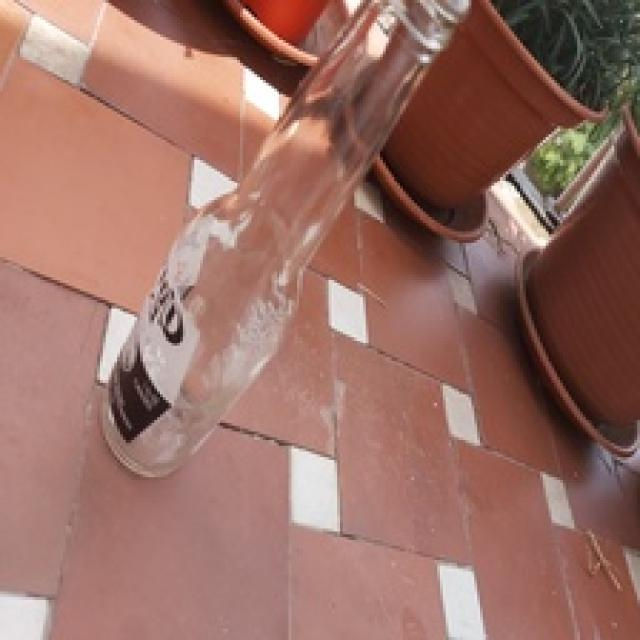glass: (101, 0, 467, 481)
